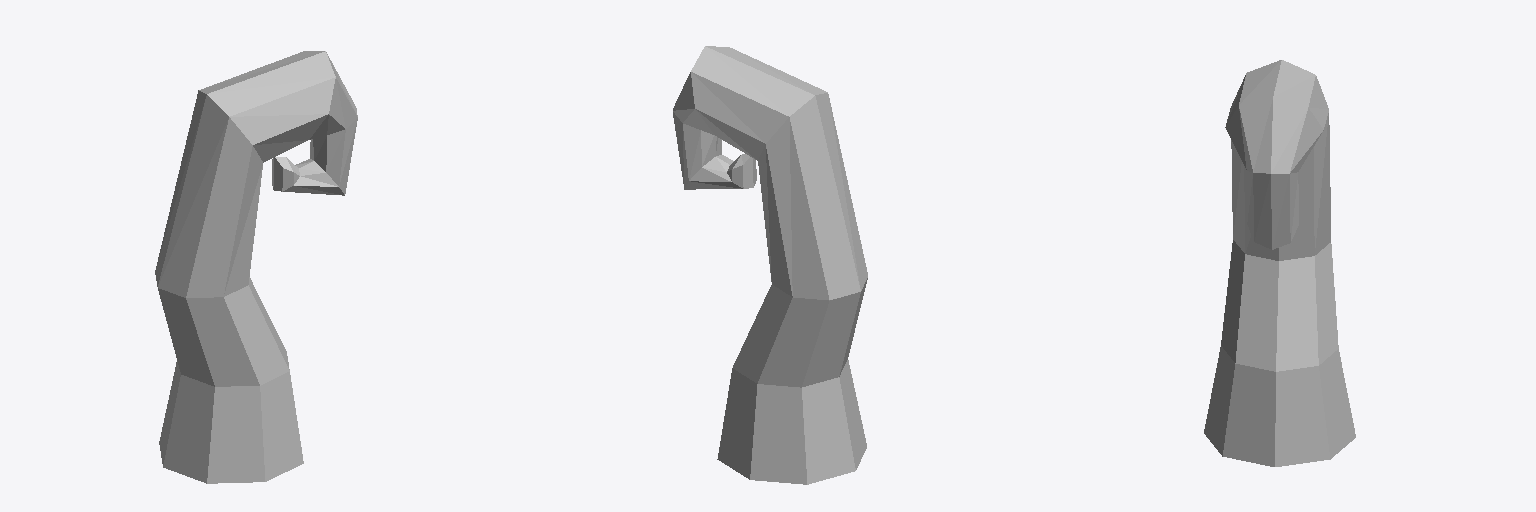
Rendered from tim burton plant.obj.
3 views of the same model, side by side, from view 1: azimuth 30°, elevation 25°; view 2: azimuth 150°, elevation 25°; view 3: azimuth 270°, elevation 25° (orthographic).
Parts seen in each view (by area): view 1: pCylinder3 polySurface3 polySurface1; view 2: pCylinder3 polySurface3 polySurface1; view 3: pCylinder3 polySurface3 polySurface1.
Part boxes in pixels (left/top/right/bottom): pCylinder3 polySurface3 polySurface1: left=155, top=51, right=357, bottom=483; pCylinder3 polySurface3 polySurface1: left=673, top=46, right=867, bottom=484; pCylinder3 polySurface3 polySurface1: left=1204, top=60, right=1355, bottom=466.
Bounding box in the file's own units: 4.48 × 8.56 × 3.09.